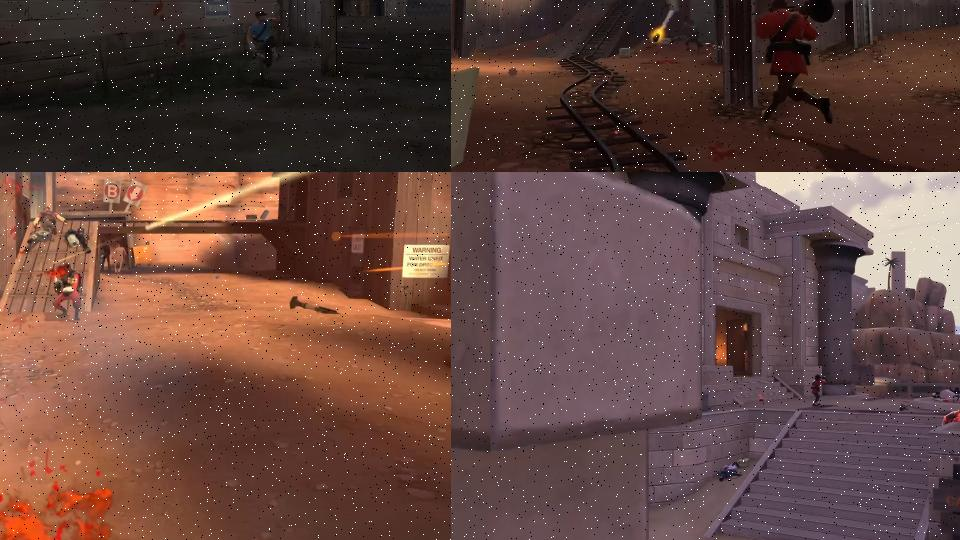Enemy: (747, 0, 839, 127), (245, 1, 283, 68), (51, 260, 91, 323), (30, 205, 70, 239), (680, 17, 705, 55), (108, 241, 127, 277), (717, 462, 743, 482), (811, 374, 827, 406), (933, 388, 960, 402), (942, 409, 960, 426)
